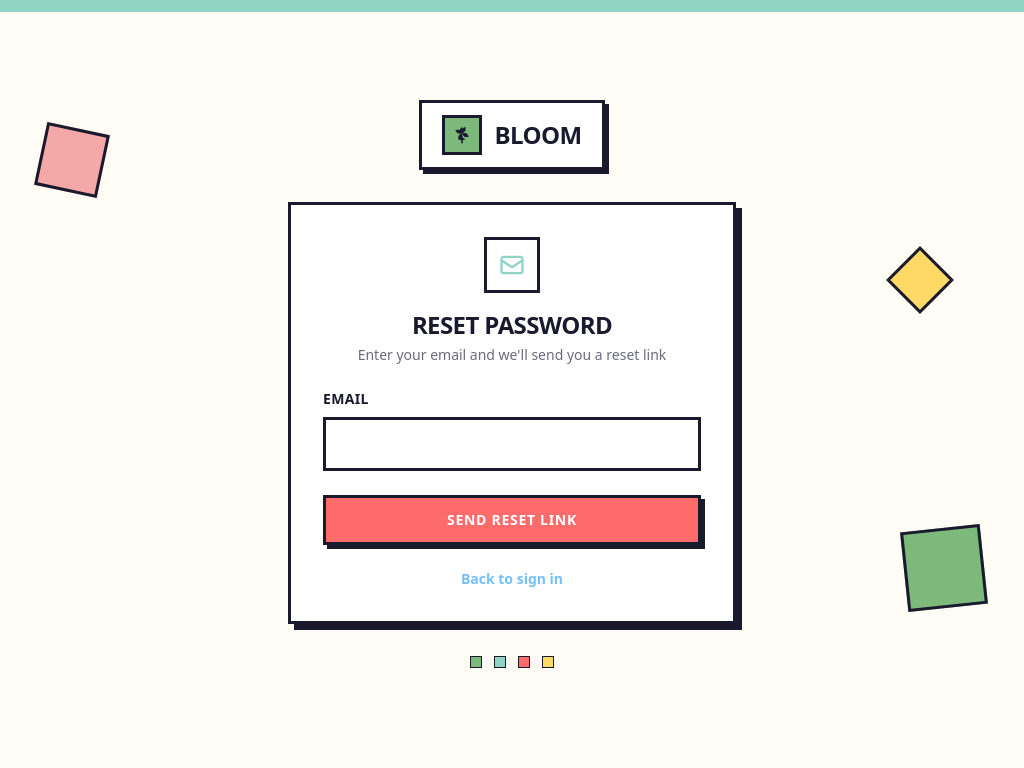
ForgotPasswordPage › shows a success message after submission
Type "user@example.com" into the field labelled "Email". click: {"x": 512, "y": 444}
box: [323,417,701,471]
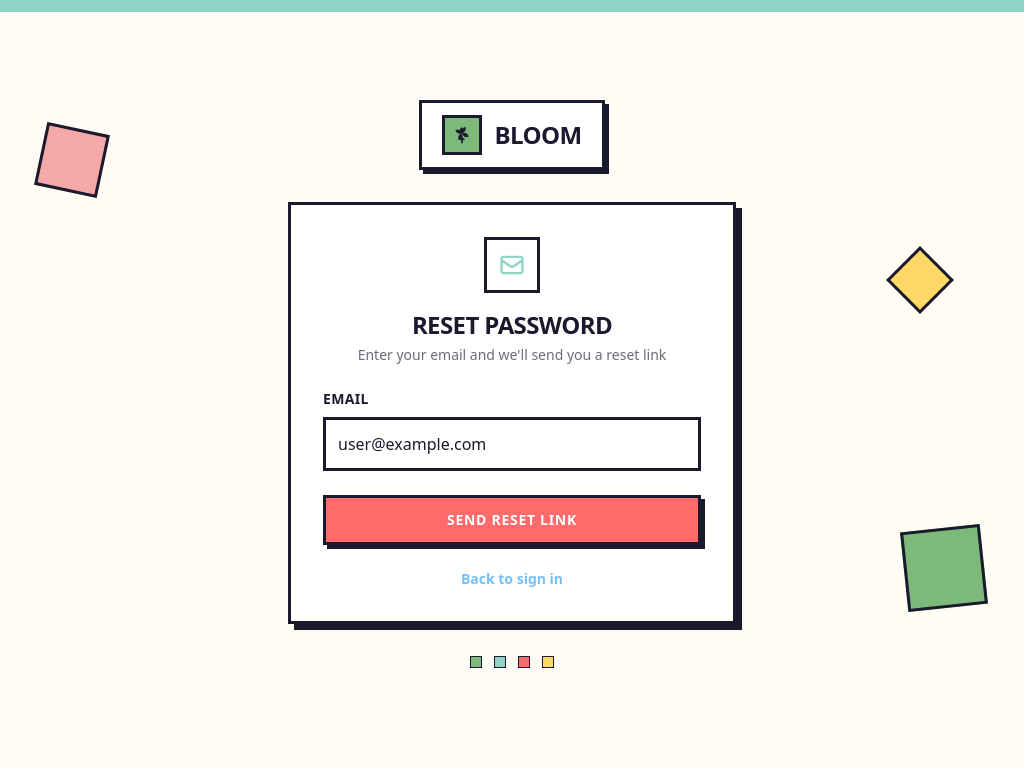
Click the button "Send reset link". click: {"x": 512, "y": 520}
box: [323,495,701,545]
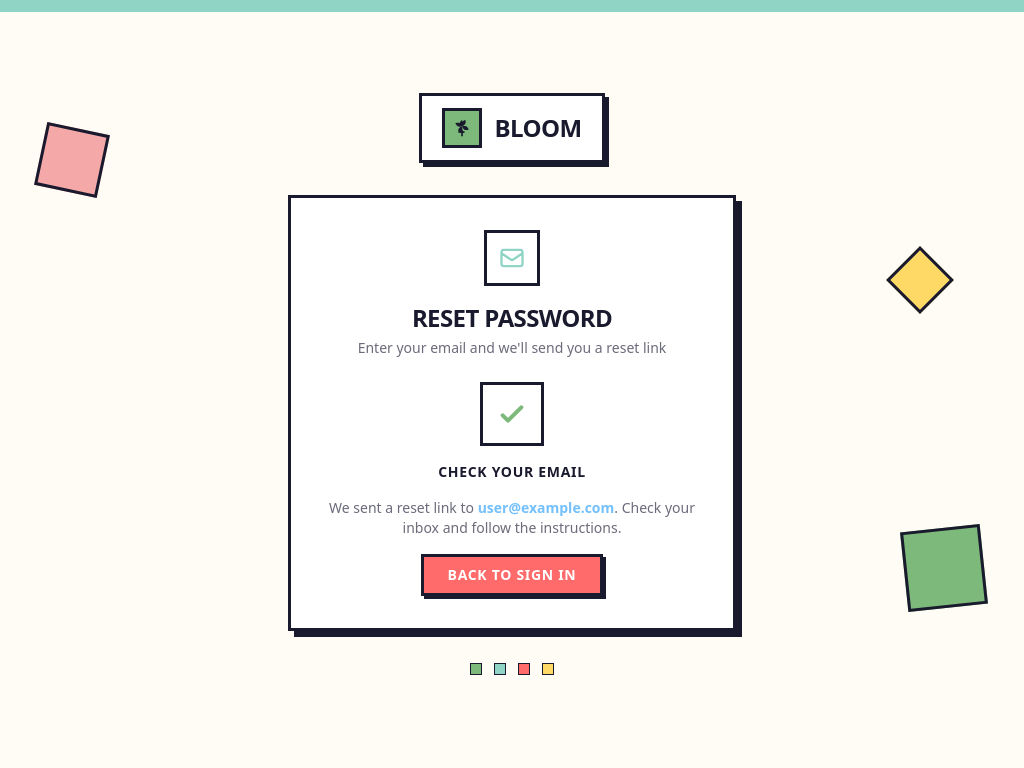
Expected: the text "Check your email" is shown, [438,462,586,481]
